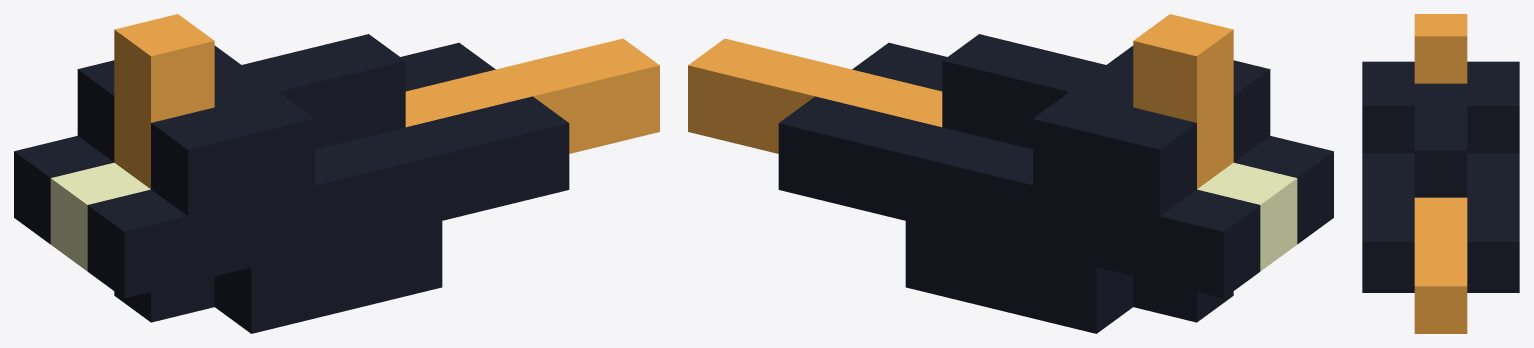
The model's file is BlasterFighterProjectileSmall1.obj.
The picture shows the model from 3 angles, left to right: view 1: azimuth 30°, elevation 25°; view 2: azimuth 150°, elevation 25°; view 3: azimuth 270°, elevation 25°; orthographic projection. The views are drawn at different scales.
Bounding box in the file's own units: 9 × 4 × 3.
1 material, 1 textured.
